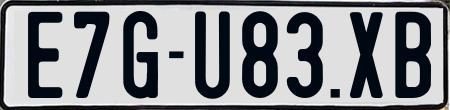3: (287, 11, 329, 99)
7: (74, 12, 110, 100)
8: (239, 8, 275, 99)
B: (394, 9, 431, 100)
E: (27, 12, 63, 104)
G: (121, 10, 159, 100)
U: (194, 10, 230, 101)
X: (347, 12, 386, 102)
